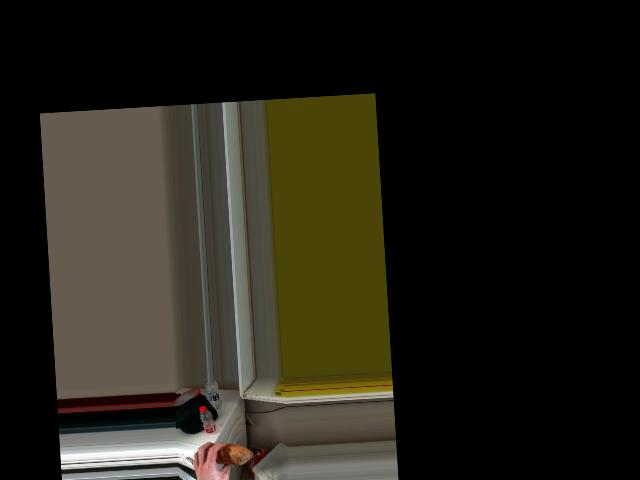sweet_potato: (208, 444, 242, 471)
